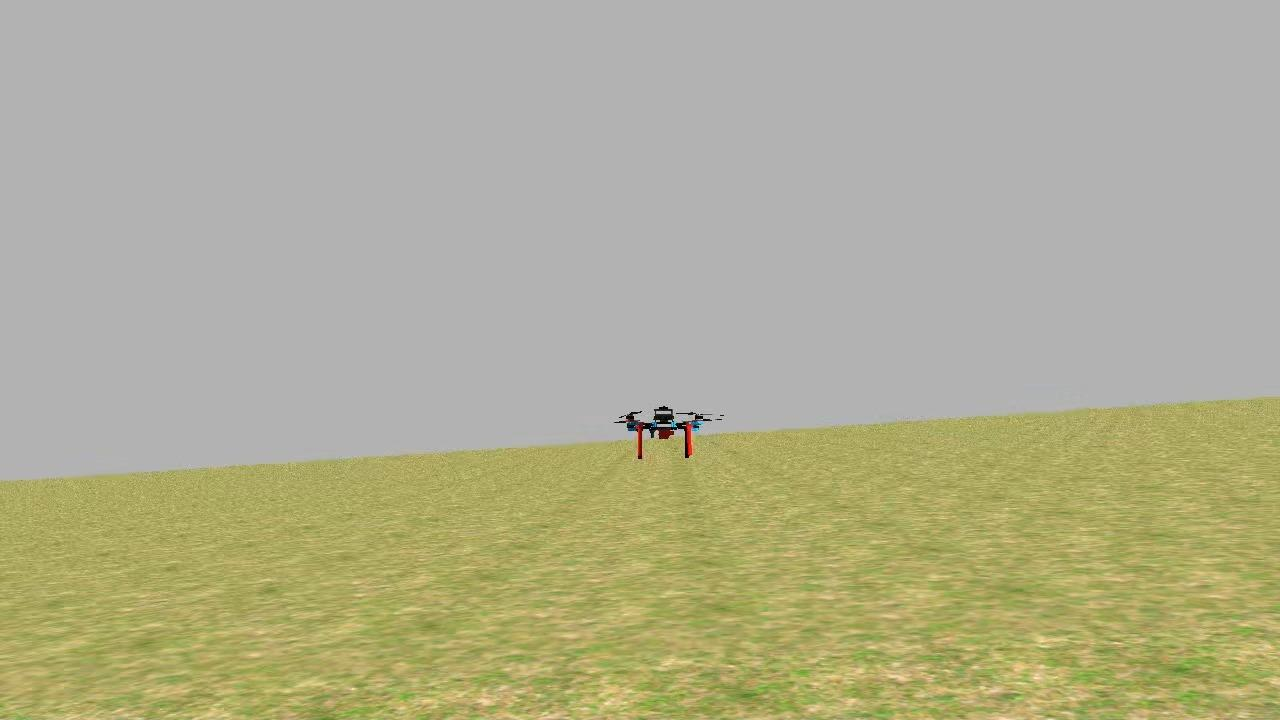UAV: (610, 392, 722, 467)
